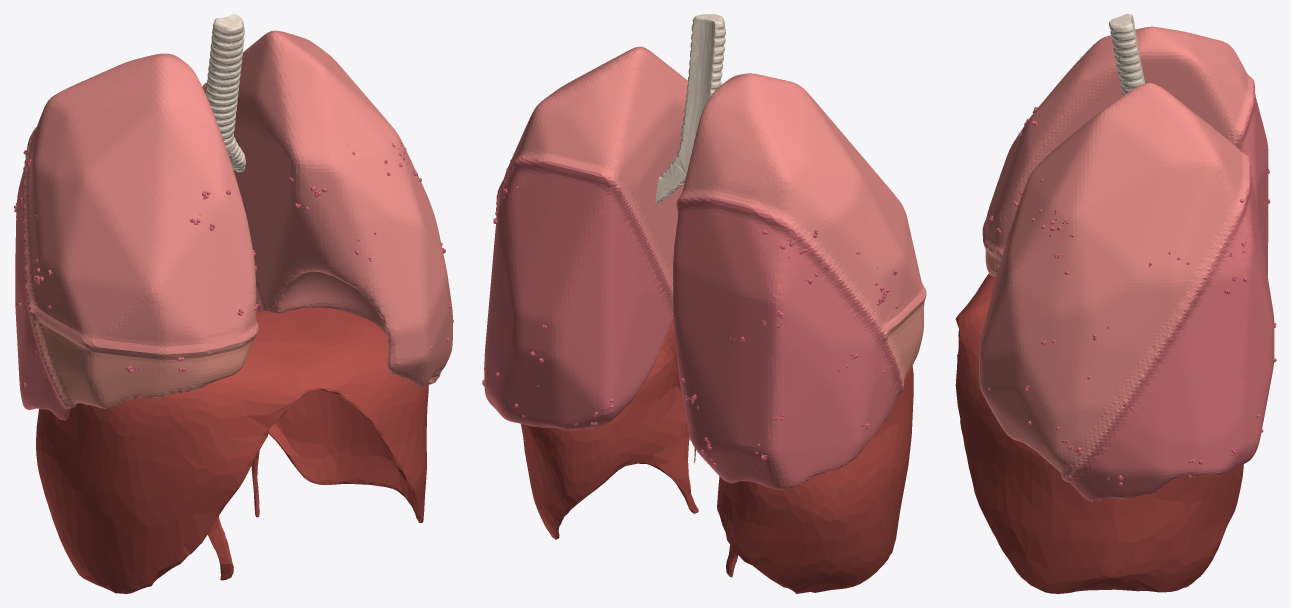
The model's file is lungs.glb.
3 renders of one model, left to right at view 1: azimuth 30°, elevation 25°; view 2: azimuth 150°, elevation 25°; view 3: azimuth 270°, elevation 25°, orthographic. The views are drawn at different scales.
Visible parts, largest first — view 1: diaphragm, lobe_ru, lobe_lu, lobe_rm, lobe_rl, trachea, bronchial_tree, alveoli; view 2: lobe_rl, lobe_ll, diaphragm, lobe_ru, lobe_lu, trachea, bronchial_tree, lobe_rm, alveoli; view 3: lobe_lu, diaphragm, lobe_ll, lobe_ru, lobe_rl, trachea, bronchial_tree, alveoli.
Boxes of the visible parts, x1,y1,x2,y2 form: diaphragm: (36, 307, 428, 593); lobe_ru: (22, 53, 258, 354); lobe_lu: (202, 30, 452, 386); lobe_rm: (29, 312, 257, 408); lobe_rl: (15, 136, 71, 420); trachea: (205, 14, 244, 152); bronchial_tree: (206, 14, 245, 171); alveoli: (14, 141, 453, 387); lobe_rl: (673, 195, 903, 489); lobe_ll: (484, 158, 673, 429); diaphragm: (521, 321, 913, 593); lobe_ru: (678, 73, 926, 334); lobe_lu: (499, 46, 688, 292); trachea: (674, 14, 725, 174); bronchial_tree: (655, 14, 725, 204); lobe_rm: (883, 295, 926, 386); alveoli: (482, 155, 921, 472); lobe_lu: (979, 83, 1249, 481); diaphragm: (955, 273, 1243, 593); lobe_ll: (1065, 156, 1274, 501); lobe_ru: (982, 26, 1252, 255); lobe_rl: (1234, 79, 1268, 276); trachea: (1109, 14, 1144, 95); bronchial_tree: (1109, 15, 1144, 94); alveoli: (987, 94, 1276, 485).
Size of the model in its own units: 0.2974 by 0.4097 by 0.2194.
